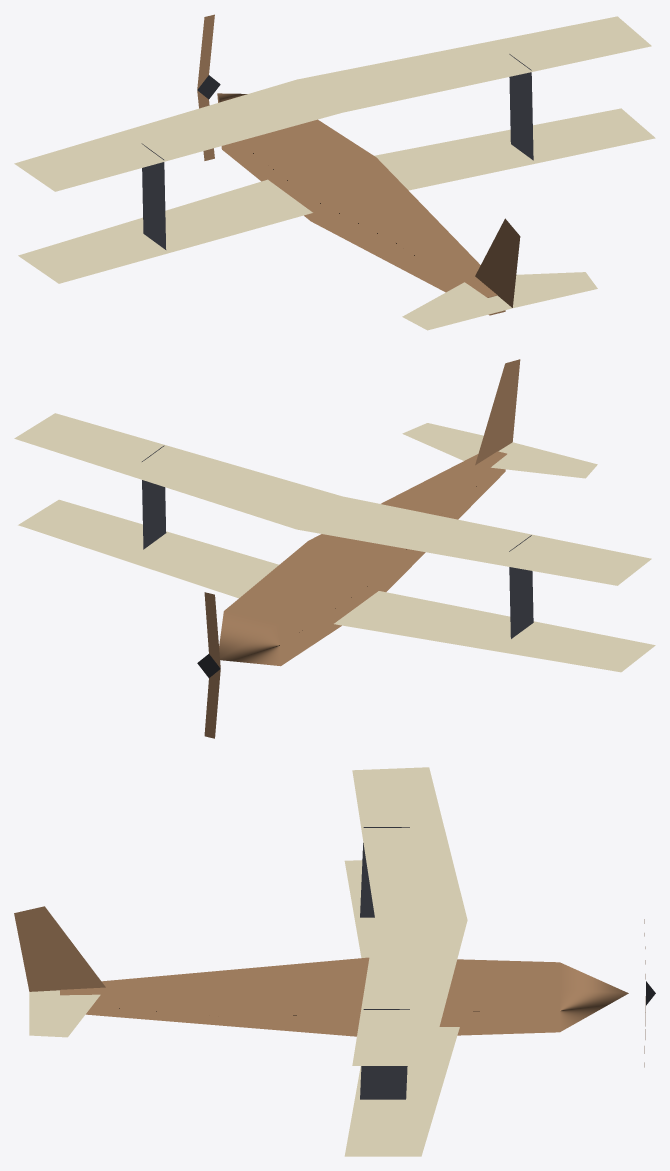
Rendered from VintageBiplane.obj.
3 renders of one model, top to bottom at view 1: azimuth 30°, elevation 25°; view 2: azimuth 150°, elevation 25°; view 3: azimuth 270°, elevation 25°, orthographic.
Visible parts, largest first — view 1: VintageBiplane_Complete; view 2: VintageBiplane_Complete; view 3: VintageBiplane_Complete.
Part boxes in pixels (left/top/right/bottom): VintageBiplane_Complete: left=14, top=14, right=655, bottom=330; VintageBiplane_Complete: left=14, top=359, right=655, bottom=738; VintageBiplane_Complete: left=14, top=767, right=655, bottom=1156.
Size of the model in its own units: 9.2 by 2.3 by 8.35.
